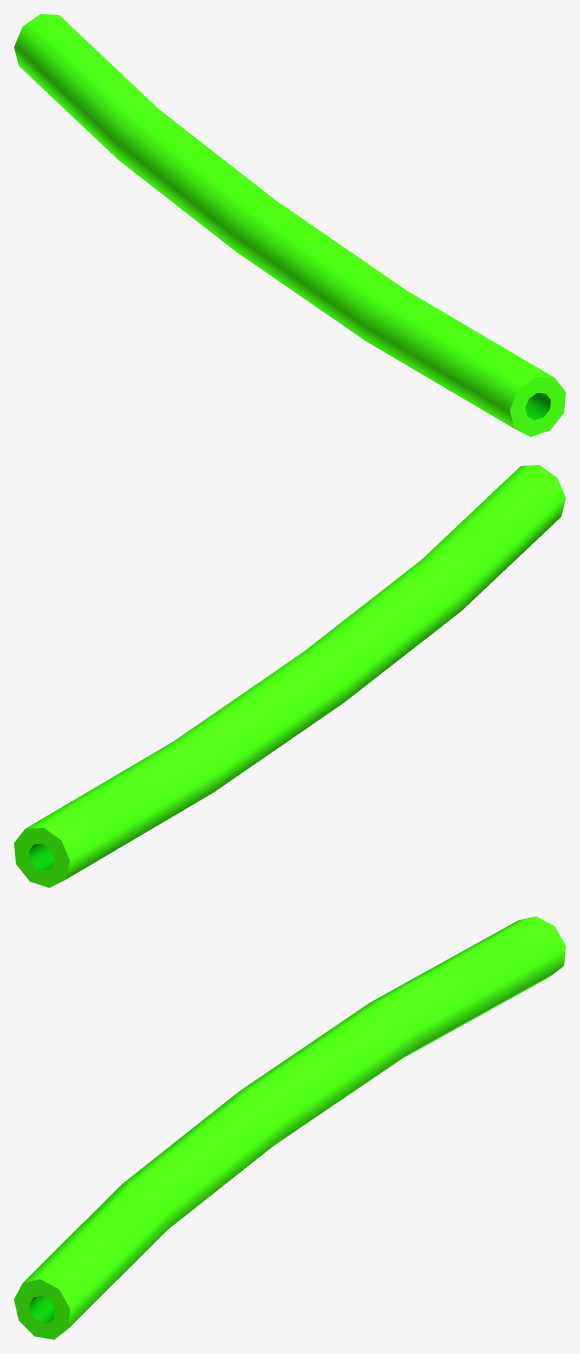
Rendered from PoolNoodleGreen.glb.
3 views of the same model, one above another, from view 1: azimuth 30°, elevation 25°; view 2: azimuth 150°, elevation 25°; view 3: azimuth 330°, elevation 25° (orthographic).
Visible parts, largest first — view 1: PoolNoodleGreen; view 2: PoolNoodleGreen; view 3: PoolNoodleGreen.
Part boxes in pixels (x1=…): PoolNoodleGreen: x1=14, y1=14, x2=565, y2=436; PoolNoodleGreen: x1=14, y1=465, x2=565, y2=887; PoolNoodleGreen: x1=14, y1=916, x2=565, y2=1339.
Bounding box in the file's own units: 0.2596 × 0.1766 × 2.56.
Materials: 1 (1 with a texture image).
